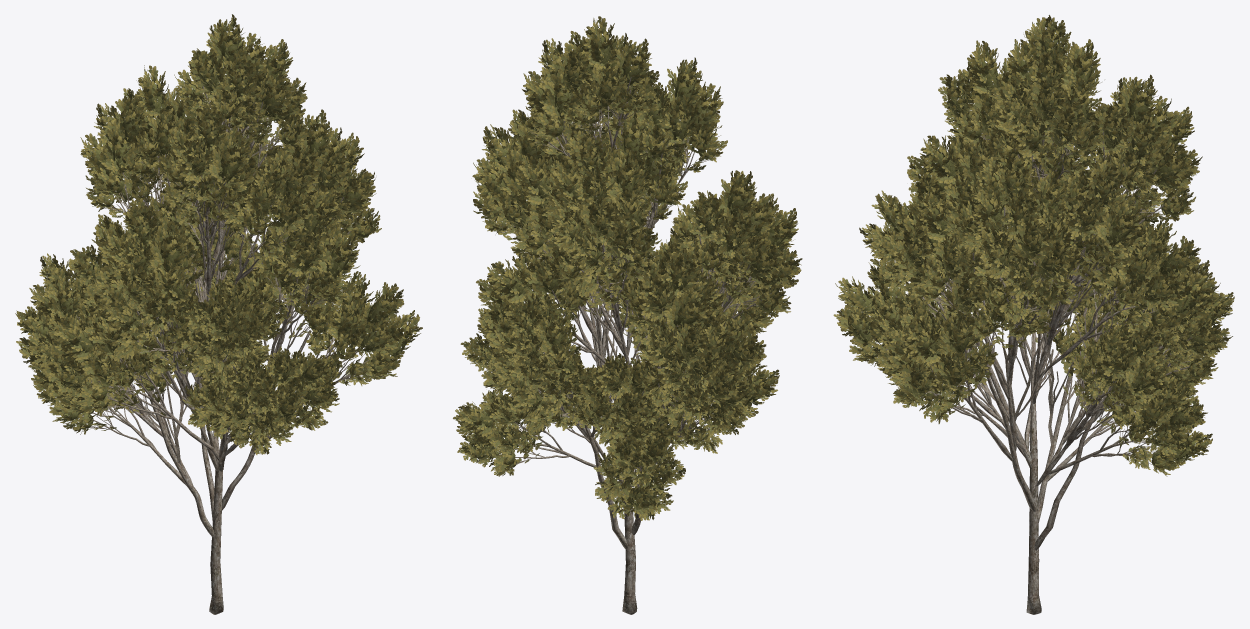
File: tree.glb
3 views of the same model, side by side, from view 1: azimuth 30°, elevation 25°; view 2: azimuth 150°, elevation 25°; view 3: azimuth 270°, elevation 25° (orthographic). The views are drawn at different scales.
Visible parts, largest first — view 1: Mesh_Folhagem_0.001, Mesh_Folhagem_0, Mesh_Folhagem_0.002, Mesh_galho fino_0; view 2: Mesh_Folhagem_0.001, Mesh_Folhagem_0, Mesh_Folhagem_0.002, Mesh_galho fino_0; view 3: Mesh_Folhagem_0, Mesh_Folhagem_0.001, Mesh_Folhagem_0.002, Mesh_galho fino_0.
Part boxes in pixels (x1=…): Mesh_Folhagem_0.001: x1=15, y1=27, x2=376, y2=454; Mesh_Folhagem_0: x1=33, y1=65, x2=422, y2=423; Mesh_Folhagem_0.002: x1=80, y1=14, x2=338, y2=416; Mesh_galho fino_0: x1=72, y1=83, x2=376, y2=614; Mesh_Folhagem_0.001: x1=460, y1=26, x2=802, y2=520; Mesh_Folhagem_0: x1=453, y1=130, x2=779, y2=519; Mesh_Folhagem_0.002: x1=476, y1=16, x2=788, y2=459; Mesh_galho fino_0: x1=493, y1=77, x2=771, y2=614; Mesh_Folhagem_0: x1=886, y1=74, x2=1220, y2=476; Mesh_Folhagem_0.001: x1=833, y1=29, x2=1234, y2=414; Mesh_Folhagem_0.002: x1=859, y1=15, x2=1214, y2=394; Mesh_galho fino_0: x1=871, y1=100, x2=1199, y2=614.
Bounding box in the file's own units: 3.19 × 5.77 × 3.45.
Materials: 2 (2 with a texture image).
